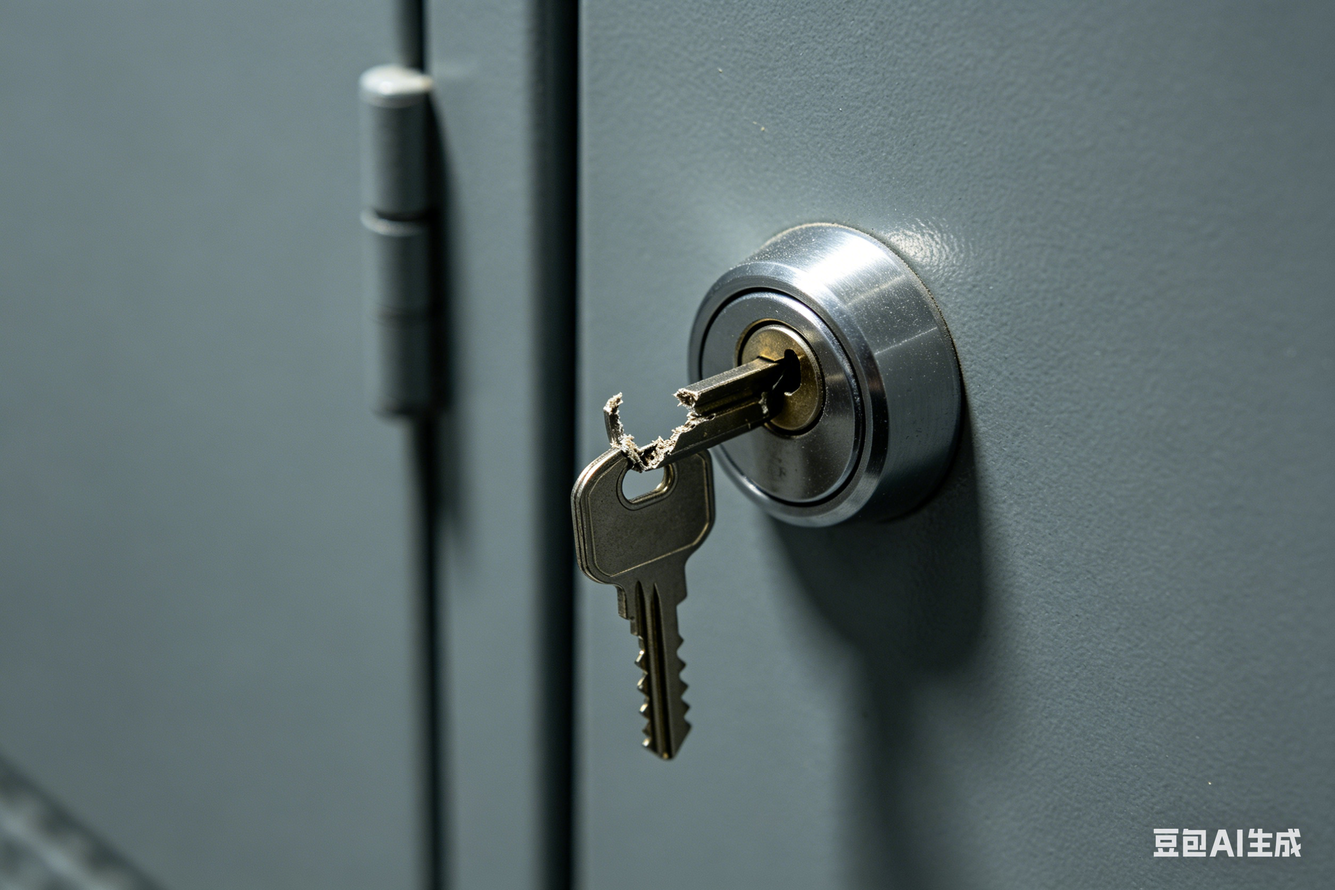BadLock: (594, 373, 732, 495)
